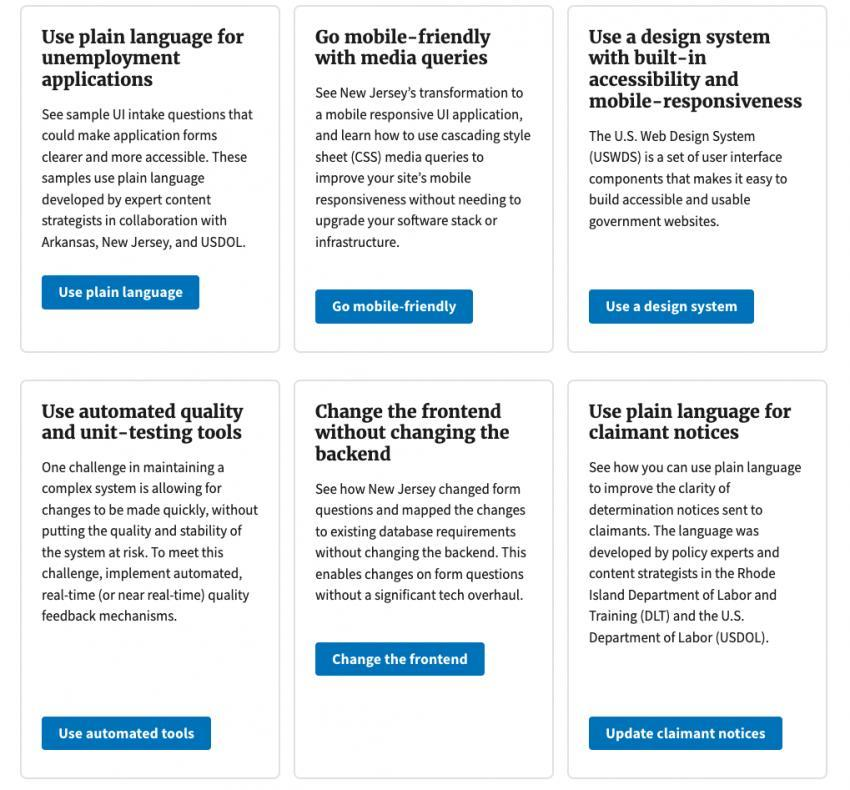button: (589, 718, 783, 752), (317, 641, 485, 678), (590, 291, 755, 327), (43, 275, 201, 312), (42, 717, 213, 750), (315, 290, 475, 325)
